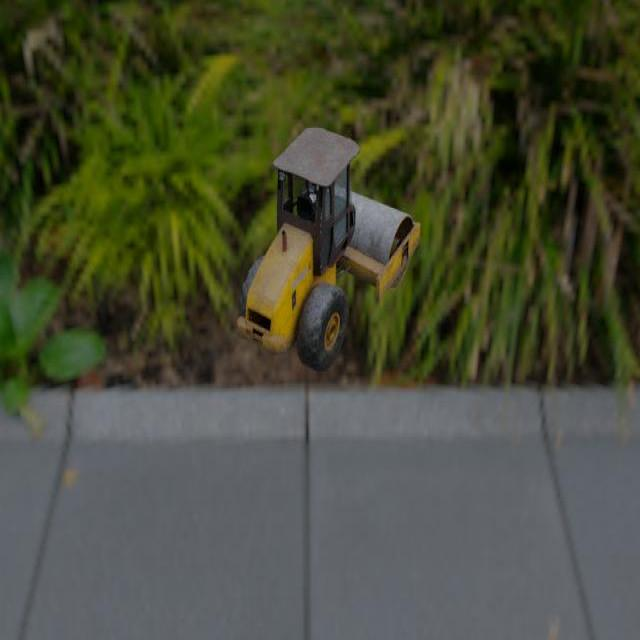Roller: (236, 127, 421, 372)
